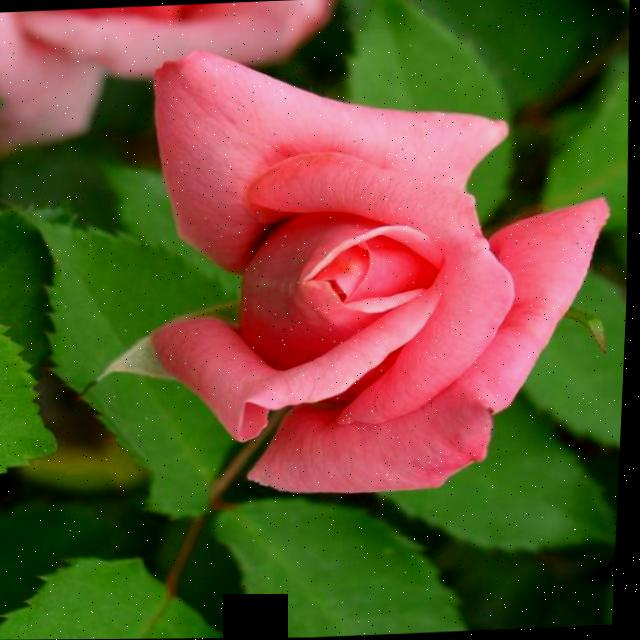rose: (74, 37, 633, 528)
